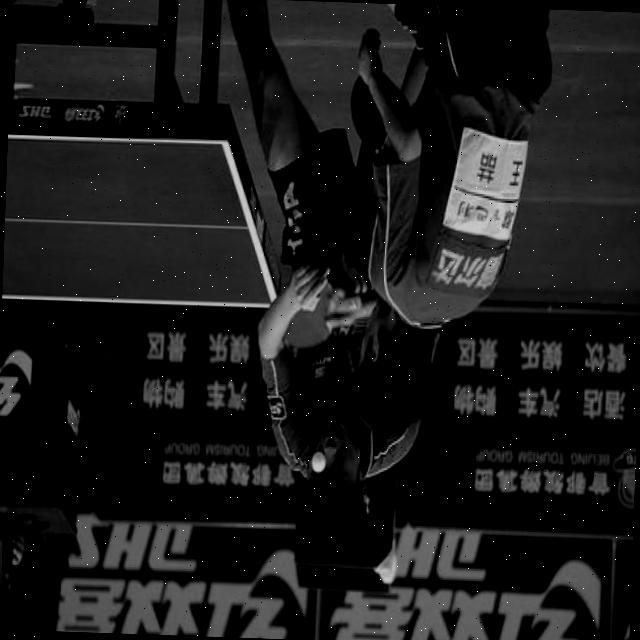ping-pong-ball: (308, 448, 324, 473)
